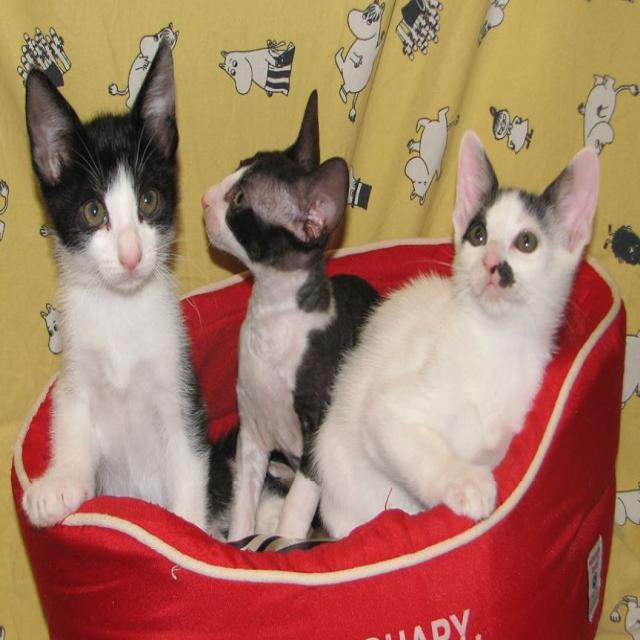Cornish Rex: (314, 123, 605, 545), (18, 27, 203, 539), (198, 87, 388, 548)
